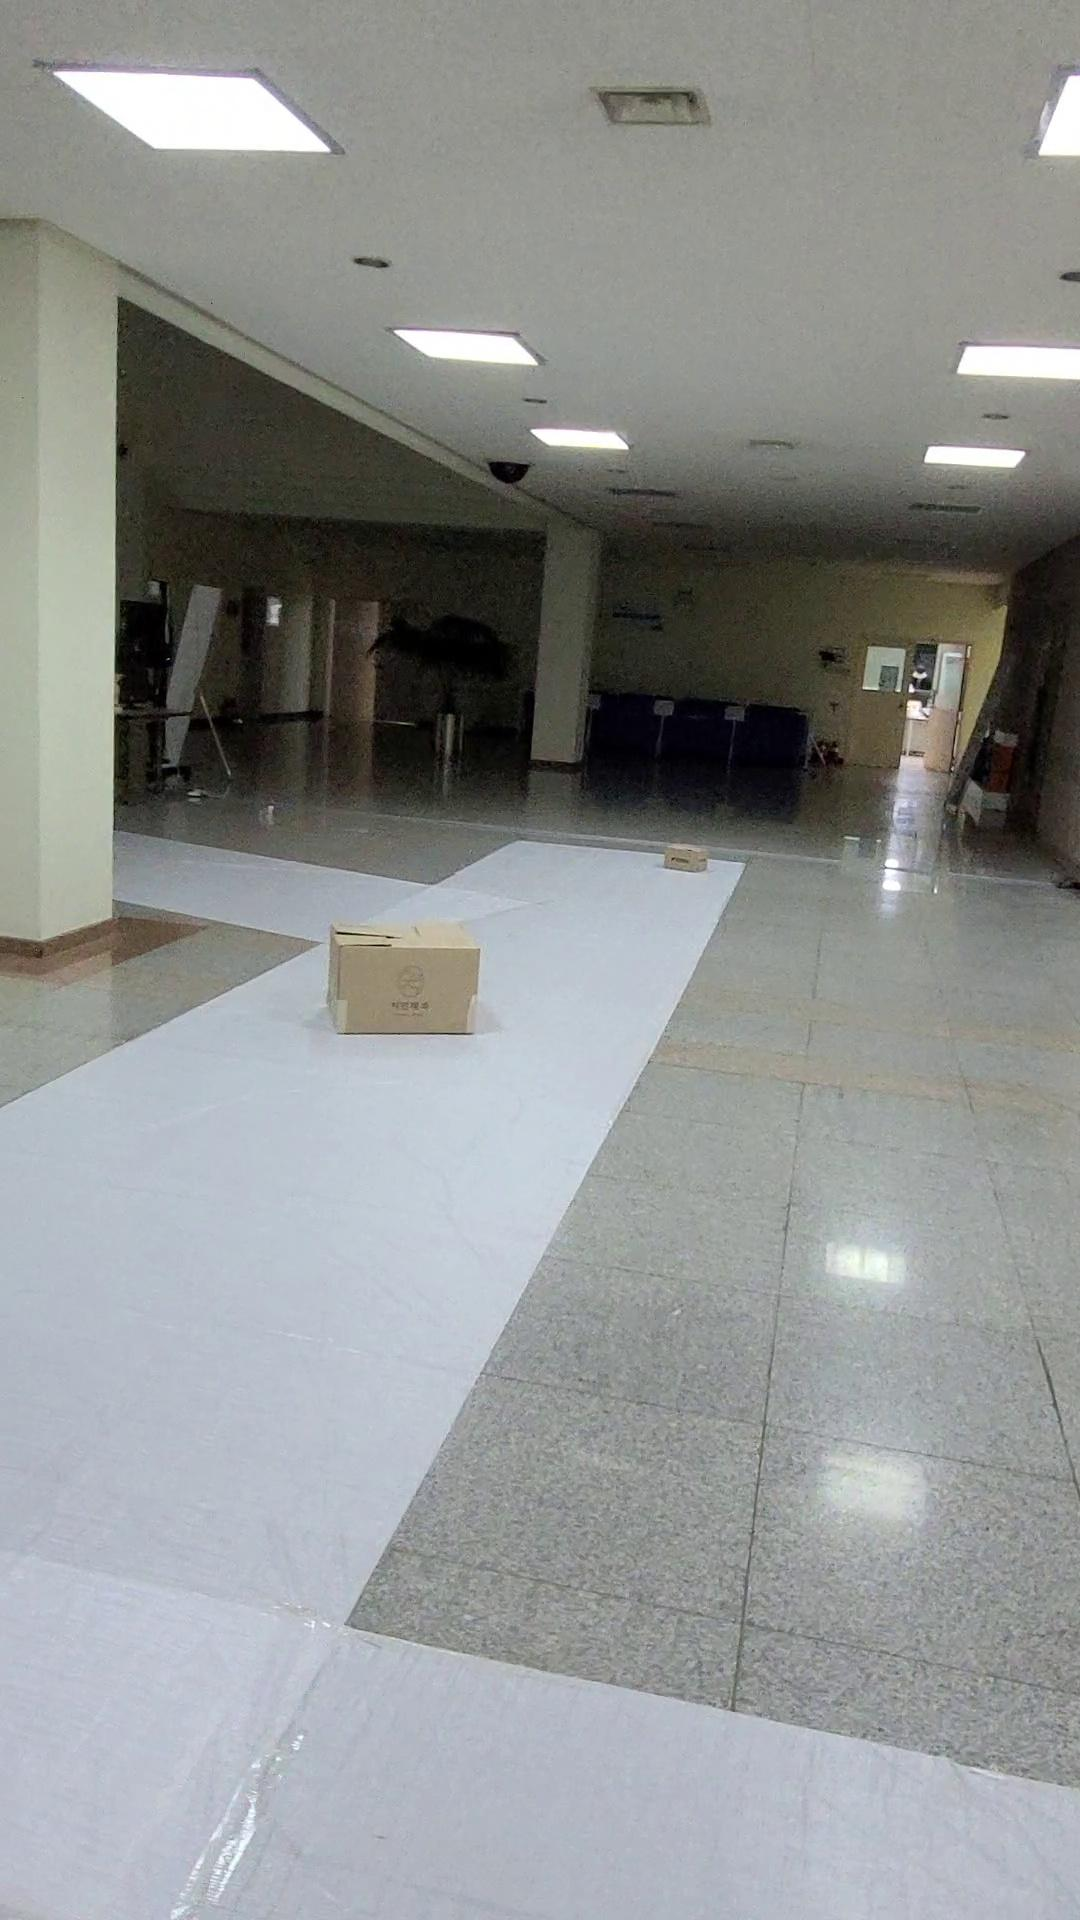Box: (320, 903, 505, 1055), (663, 818, 717, 895)
